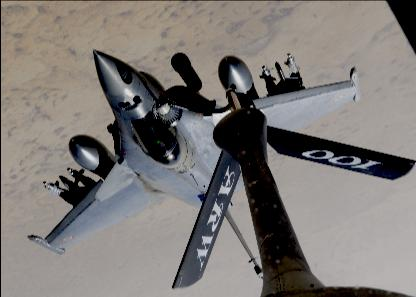RQ4: (26, 48, 360, 279)
